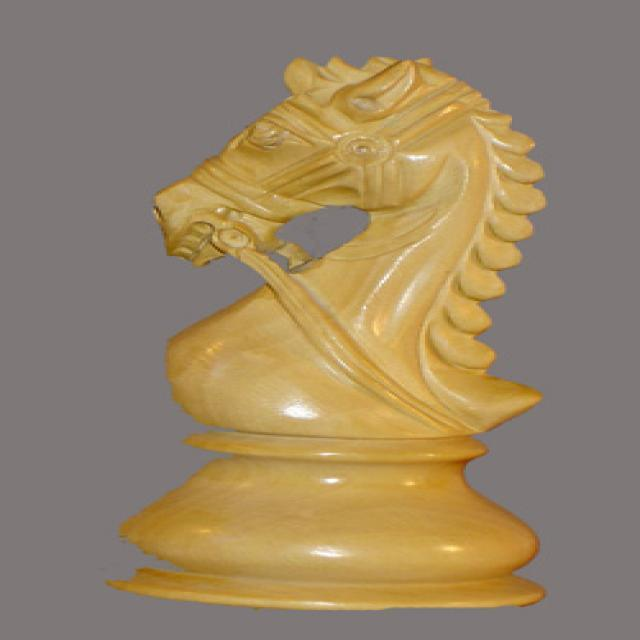white-knight: (29, 6, 626, 622)
